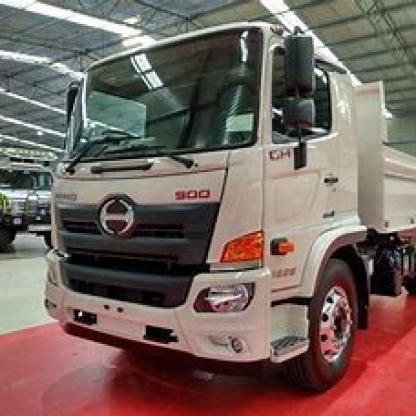dump_truck: (20, 24, 414, 414)
